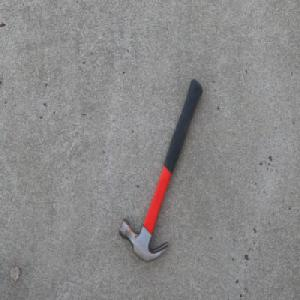Hammer: (118, 78, 202, 262)
